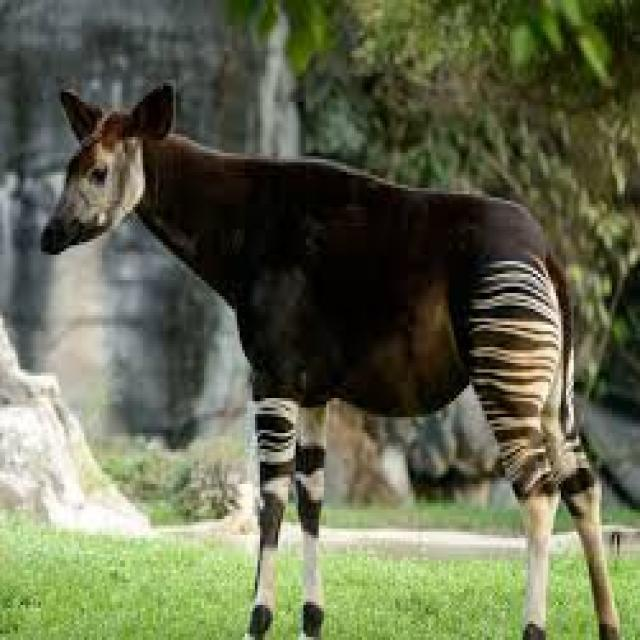Okapi: (36, 73, 624, 640)
